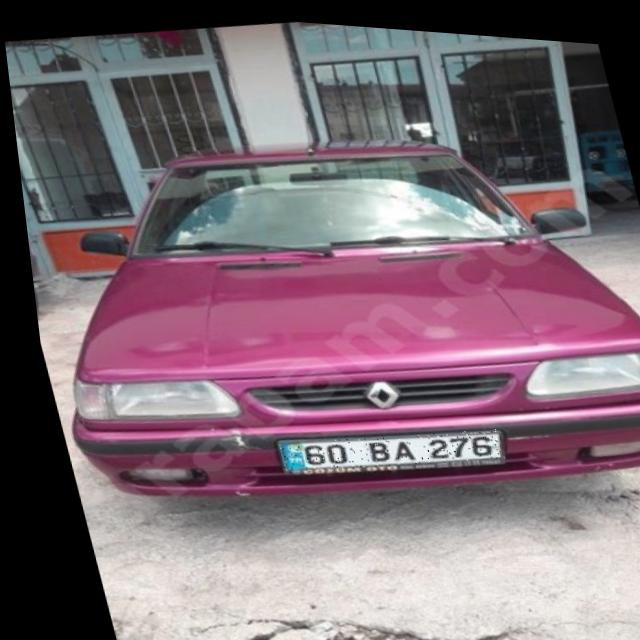license_plate: (265, 409, 498, 482)
